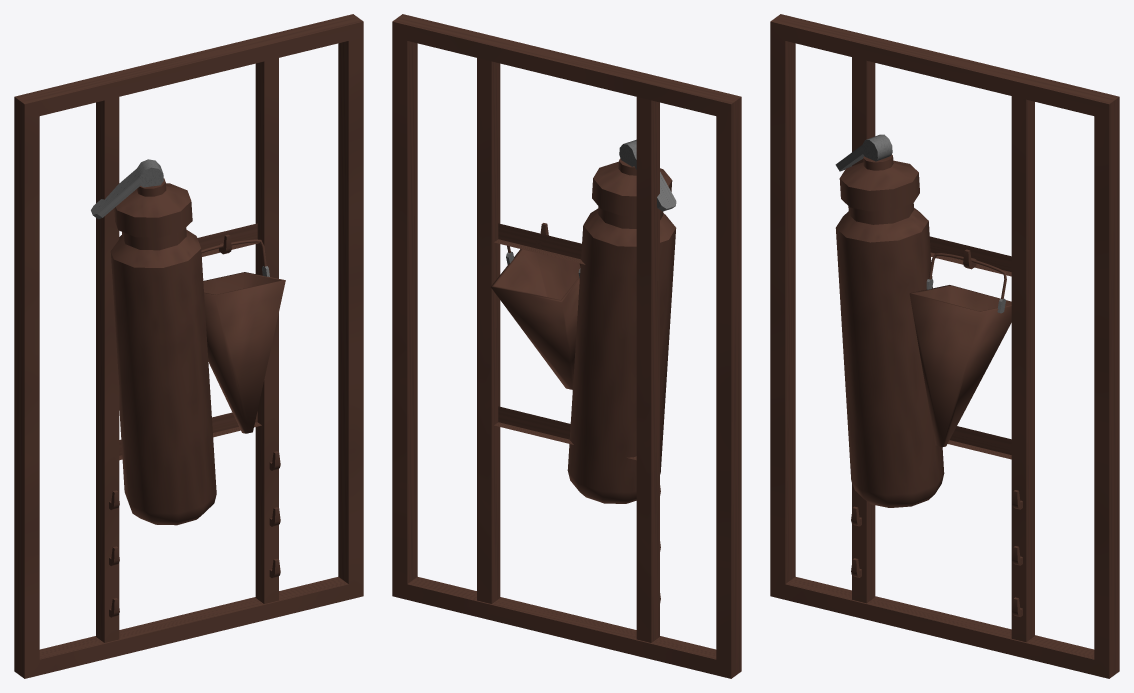
File: Extinguisher.fbx
3 renders of one model, left to right at view 1: azimuth 30°, elevation 25°; view 2: azimuth 150°, elevation 25°; view 3: azimuth 330°, elevation 25°, orthographic.
Visible parts, largest first — view 1: Cube.127; view 2: Cube.127; view 3: Cube.127.
Part boxes in pixels (x1,y1,x2,y2): Cube.127: (14,14,363,678); Cube.127: (392,14,741,678); Cube.127: (770,14,1119,678).
Size of the model in its own units: 154 by 249 by 37.17.
